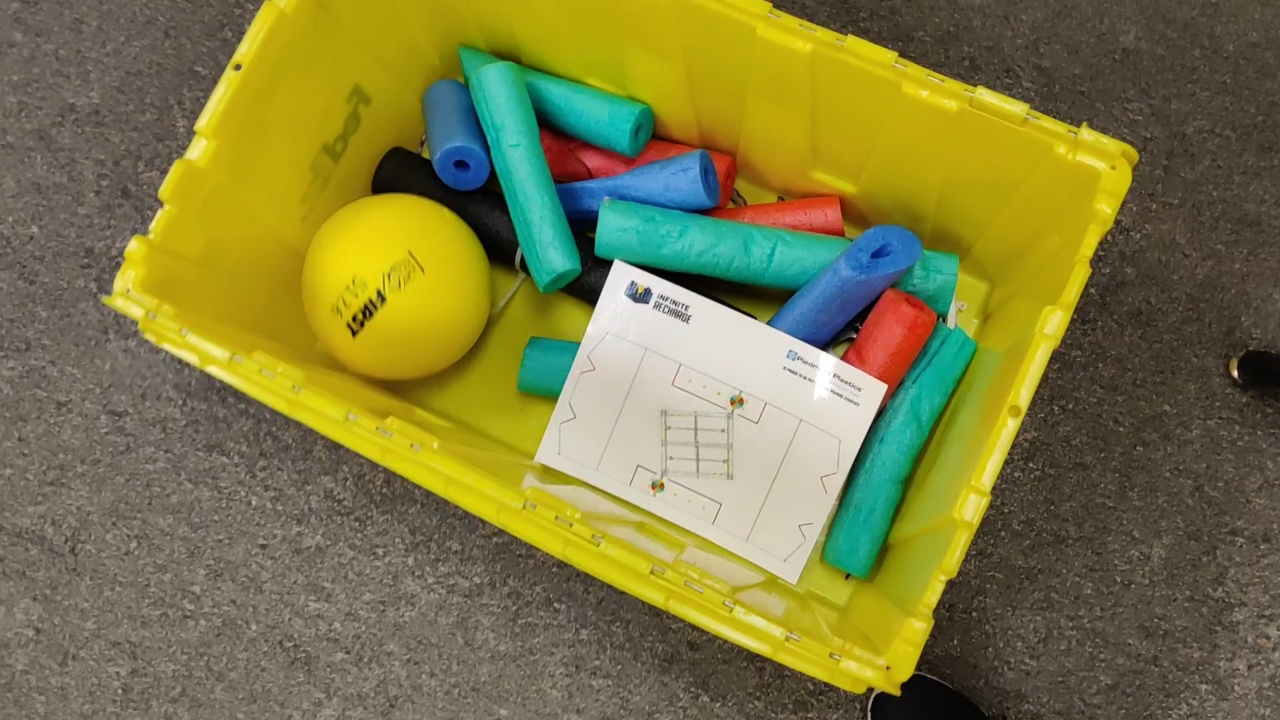Ball: (298, 193, 493, 385)
